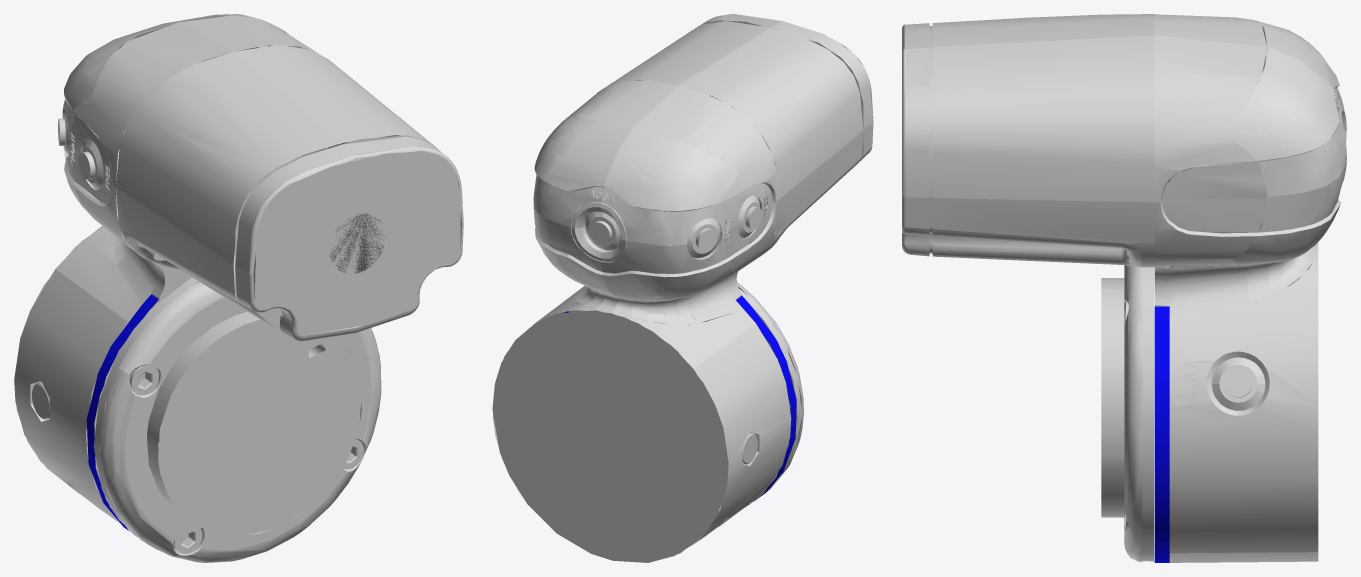
File: tmr_ee.obj
3 renders of one model, left to right at view 1: azimuth 30°, elevation 25°; view 2: azimuth 150°, elevation 25°; view 3: azimuth 270°, elevation 25°, orthographic. The views are drawn at different scales.
Visible parts, largest first — view 1: tmr_ee; view 2: tmr_ee; view 3: tmr_ee.
Part boxes in pixels (x1,y1,x2,y2): tmr_ee: (14, 14, 463, 562); tmr_ee: (492, 14, 873, 562); tmr_ee: (902, 14, 1346, 562).
Bounding box in the file's own units: 0.0866 × 0.1482 × 0.1166.
